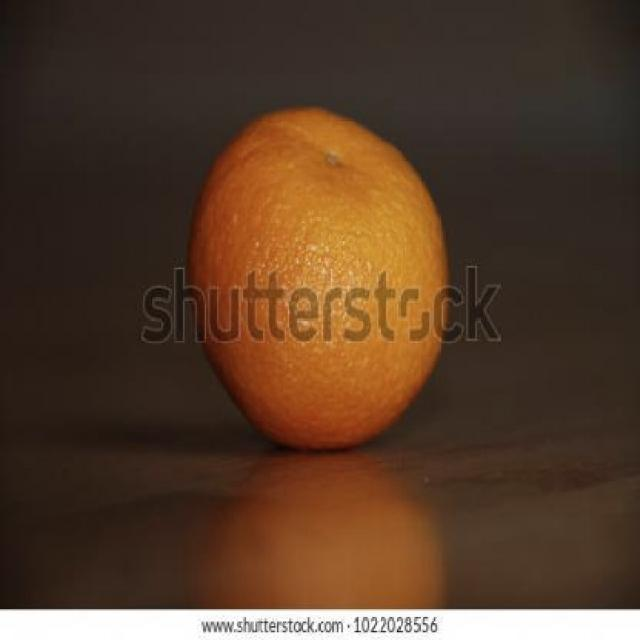Jeruk Sudah Matang: (191, 103, 452, 449)
